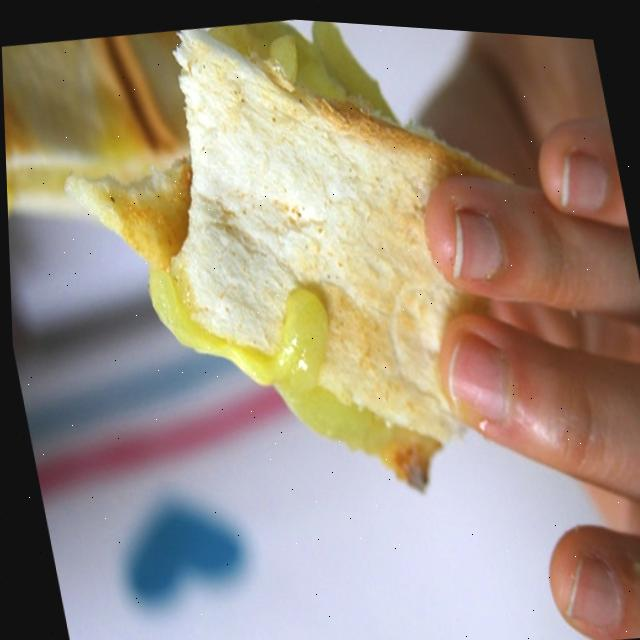面包点心: (0, 0, 588, 618)
